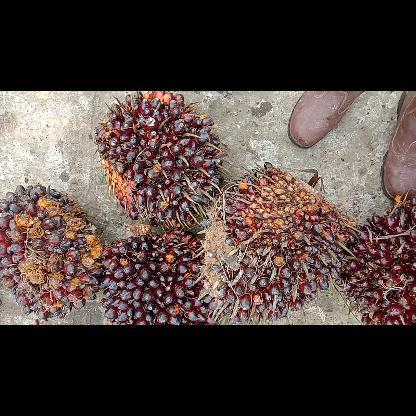Kurang masak: (198, 160, 358, 324), (91, 90, 227, 232), (0, 182, 104, 324), (90, 220, 224, 324), (335, 192, 415, 324)
